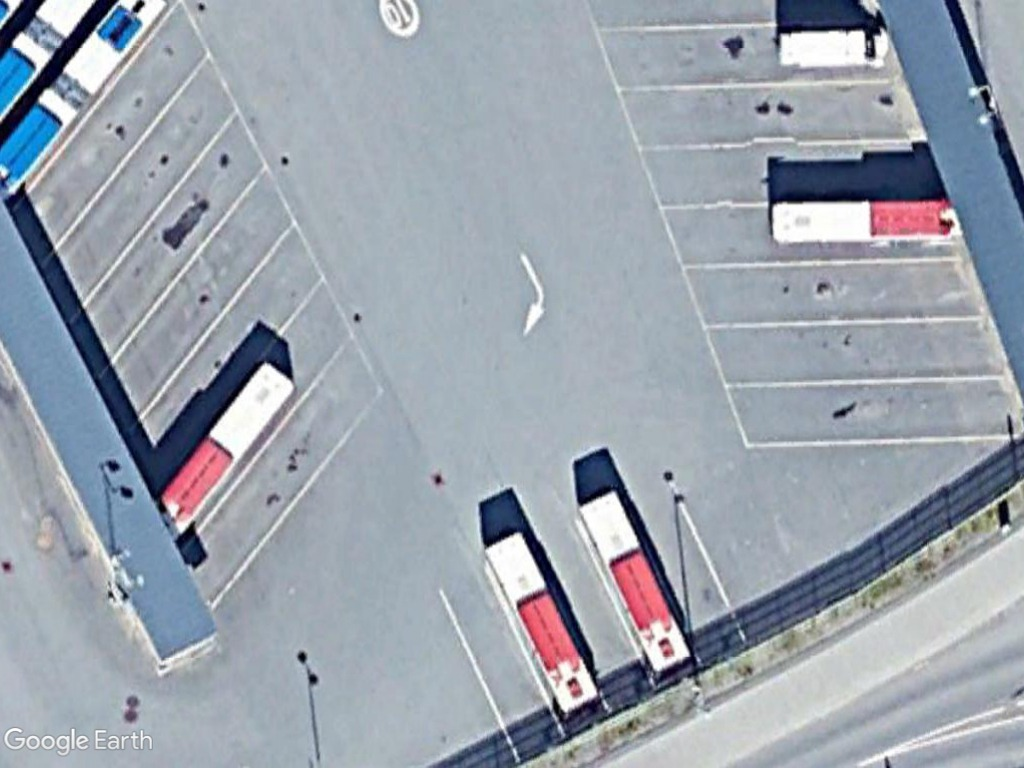bus: (473, 525, 606, 720), (573, 485, 698, 684), (157, 355, 294, 530), (764, 190, 963, 252)
van: (774, 24, 893, 74)
